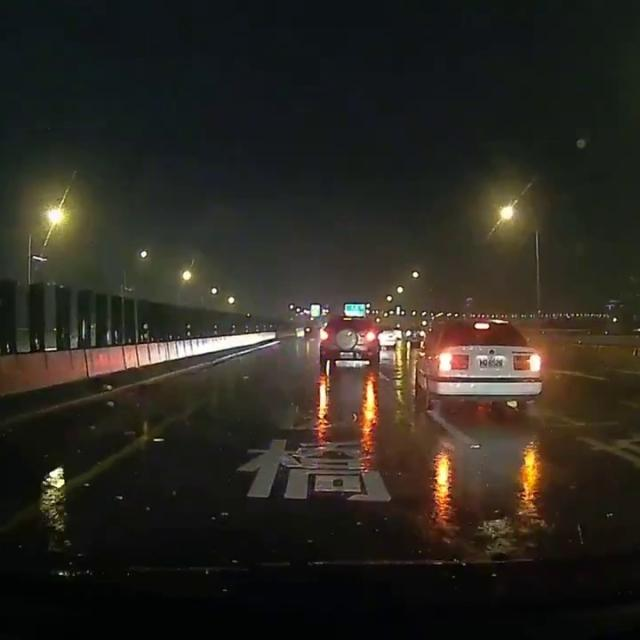Car: (410, 315, 543, 407), (316, 314, 381, 369)
